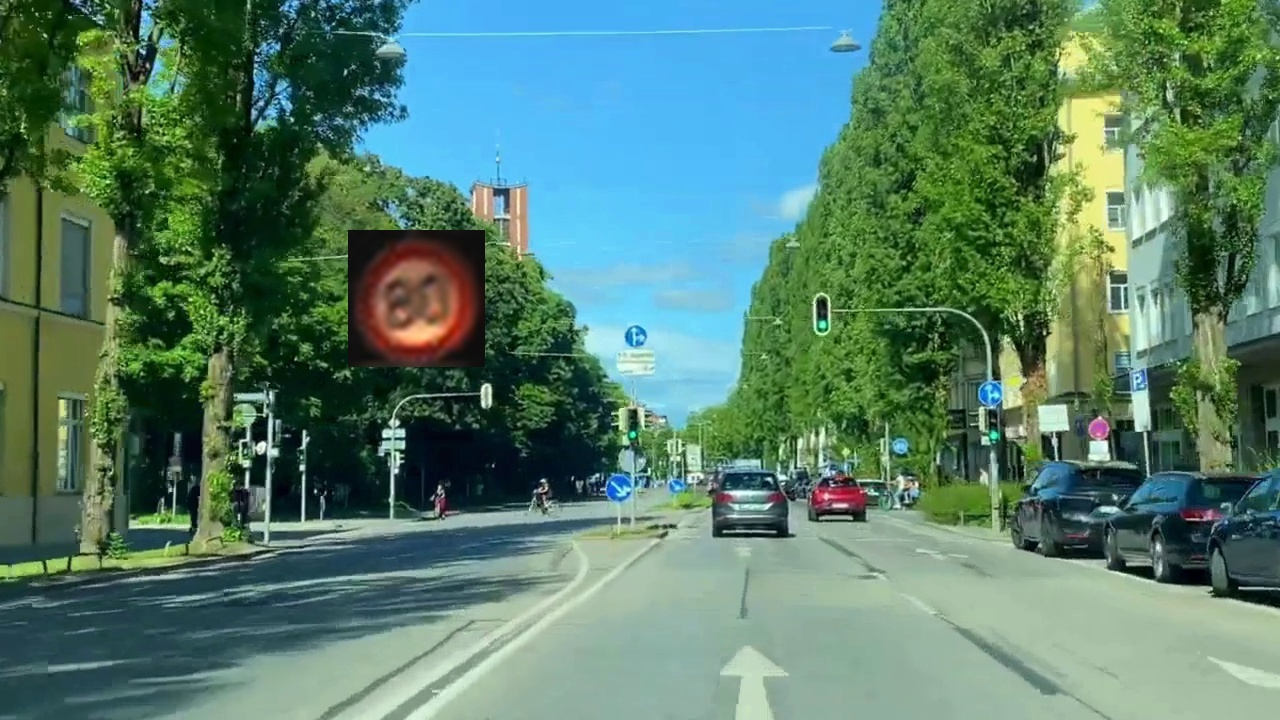Speed 80: (348, 230, 485, 367)
